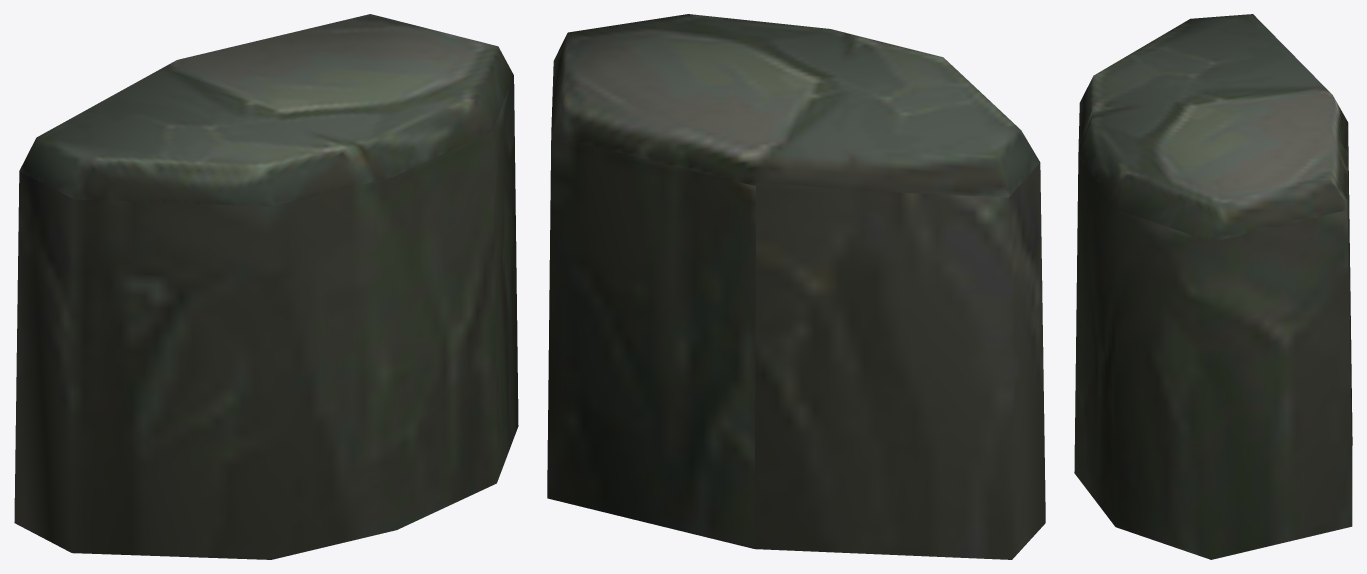
Rendered from 0067_HT_MJ_ShiTou06.glb.
3 views of the same model, side by side, from view 1: azimuth 30°, elevation 25°; view 2: azimuth 150°, elevation 25°; view 3: azimuth 270°, elevation 25° (orthographic). The views are drawn at different scales.
Bounding box in the file's own units: 2.2 × 1.69 × 1.23.
1 material, 1 textured.
